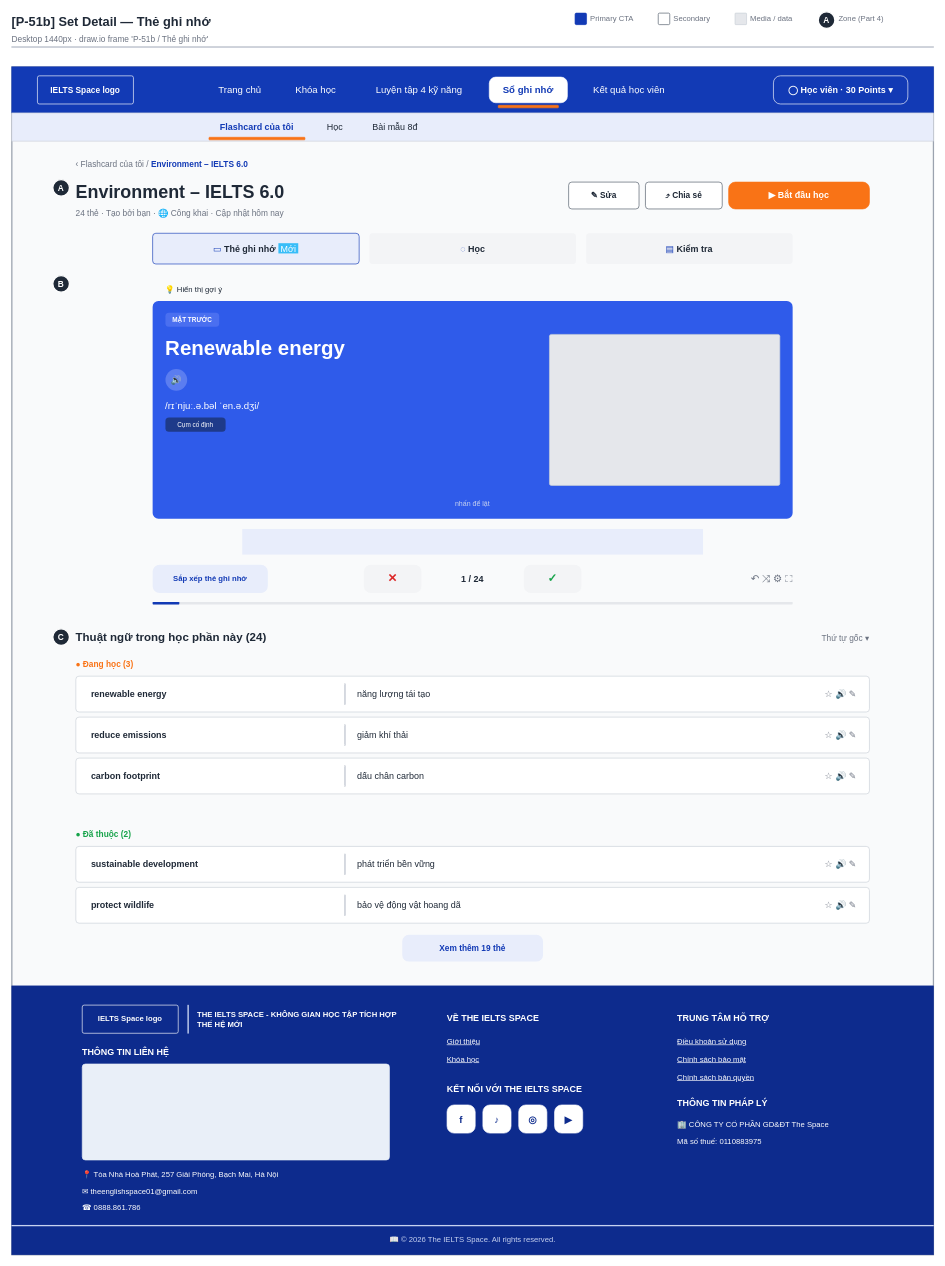
This 945x1266 diagram has some shape labels left out. The centre of each missing label's shape, as x and y in pixels:
⌨ Phím tắt Nhấn [ phím cách ] hoặc nhấp vào thẻ để lật · ← / → chuyển thẻ: (x=472, y=541)
▨ Ảnh pin mặt trời, tua-bin gió: (x=664, y=409)
📍 The IELTS Space Mở trong Maps ↗: (x=235, y=1111)
